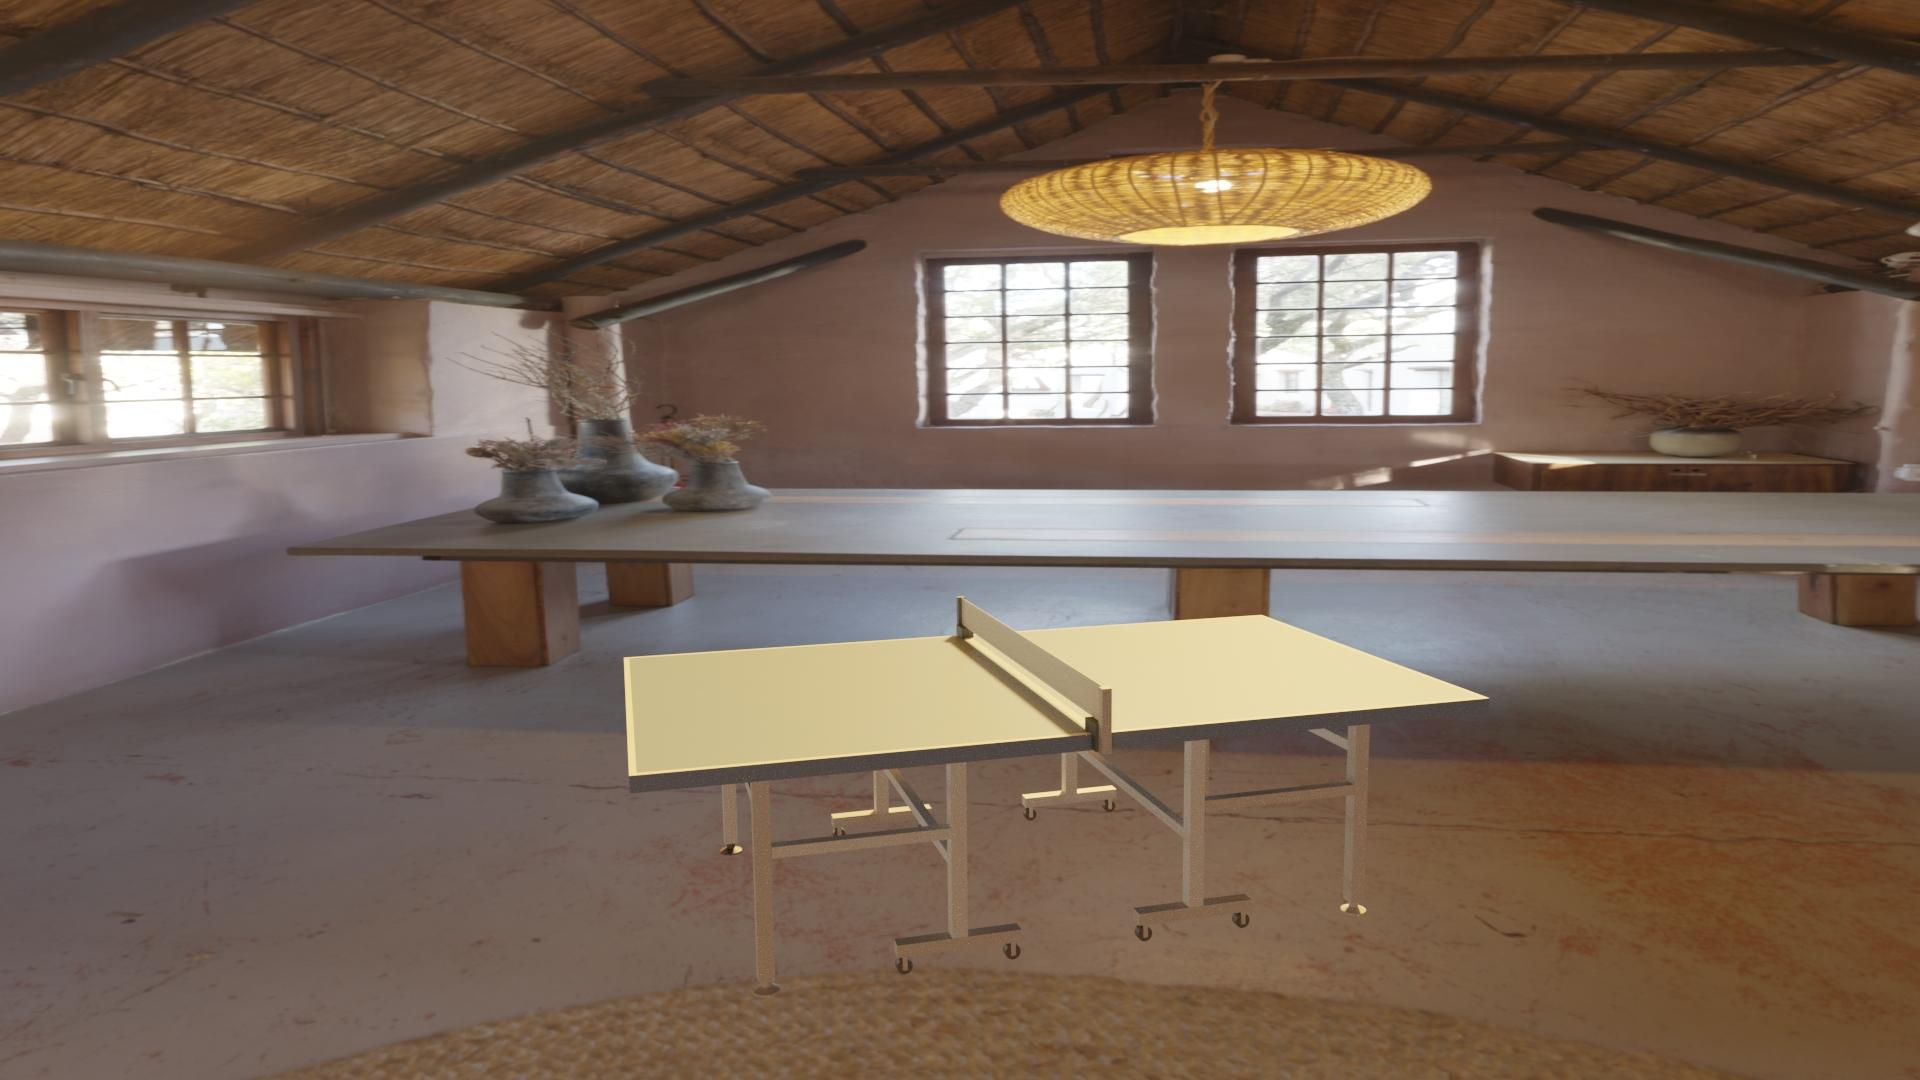table: (629, 616, 1480, 773)
